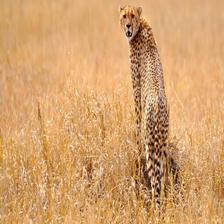Cheetah: (114, 5, 183, 212)
